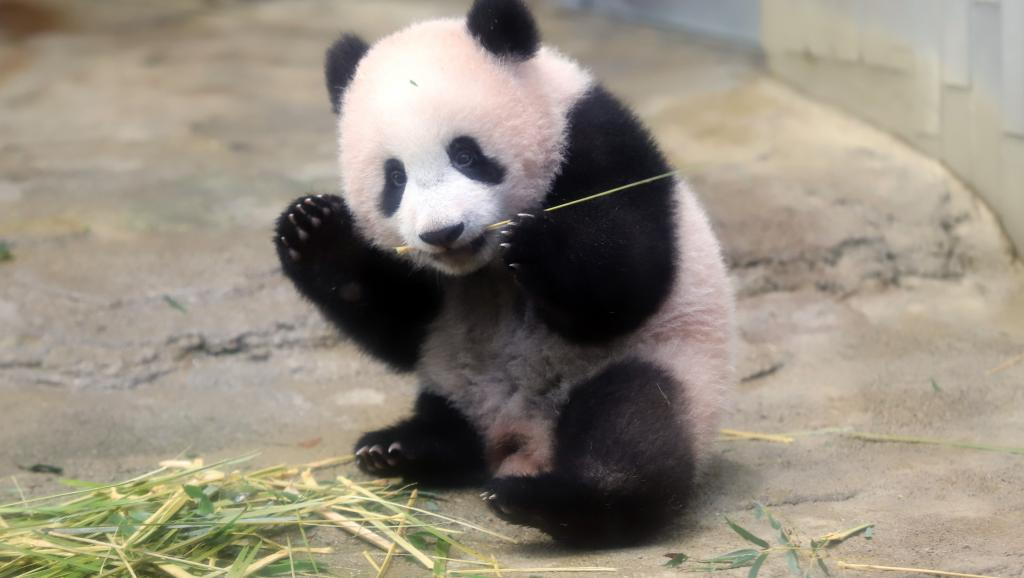panda: (263, 5, 775, 555)
